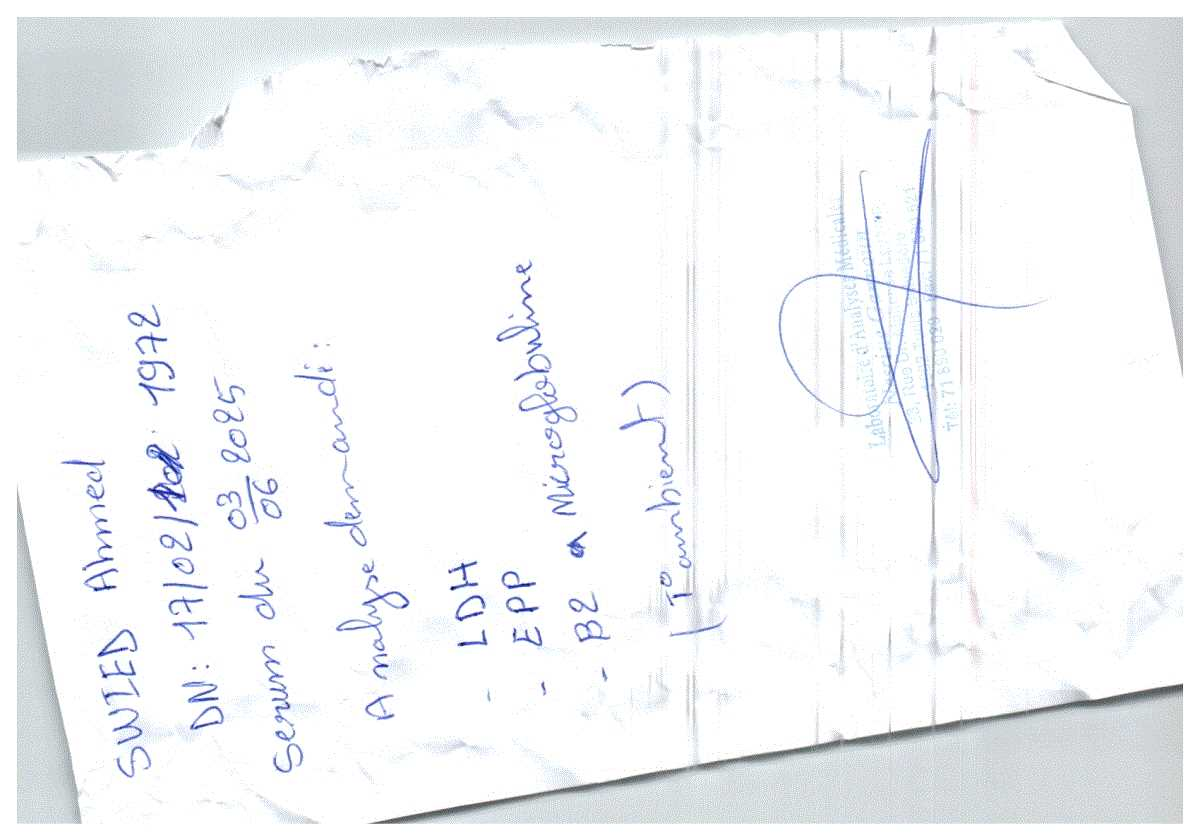zone_analyses: (266, 219, 667, 776)
zone_cachet: (818, 167, 953, 463)
zone_date: (184, 360, 284, 545)
zone_patient: (22, 428, 119, 799)
